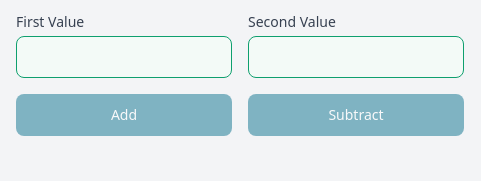
Scenario: CalculatorFormAndResult › Input fields interactions › displays validation error when First Value is missing
Step 1. Type "1" into the field labelled "First Value" → (124, 57), box [16,36,232,78]
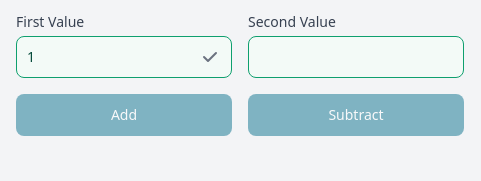
Step 2. Type "2" into the field labelled "Second Value" → (356, 57), box [248,36,464,78]
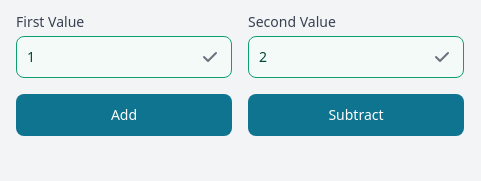
Step 3. Clear the field labelled "First Value" → (124, 57), box [16,36,232,78]
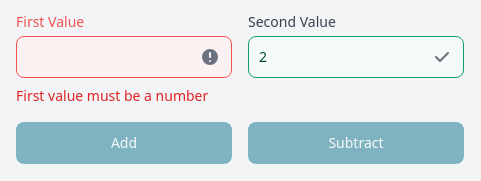
Expected: the text "First value must be a number" is shown, [16,86,232,106]
